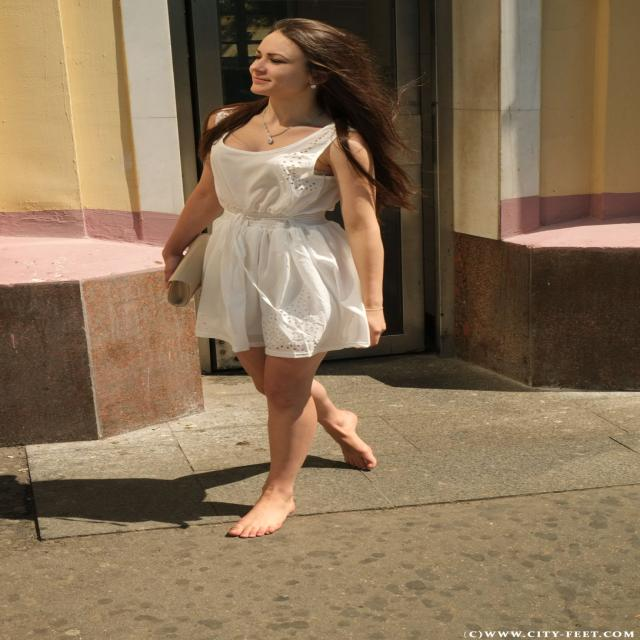No Safety Boots: (229, 492, 295, 538), (335, 409, 377, 470)
